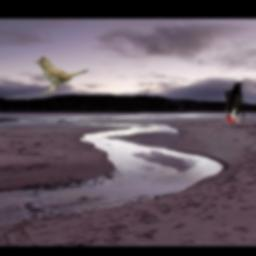Sparrow: (32, 55, 88, 94)
Woodpecker: (225, 82, 246, 124)
